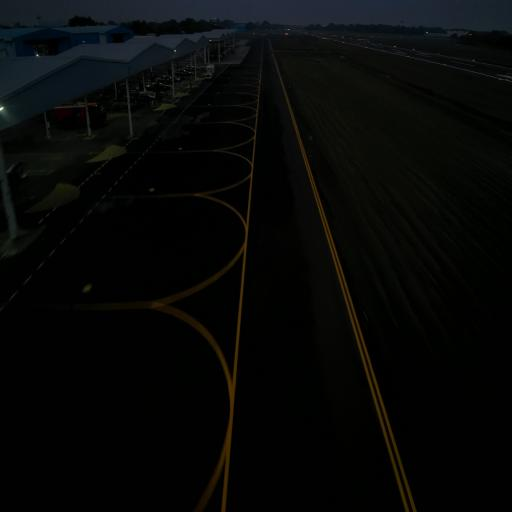on: (310, 134, 313, 141)
